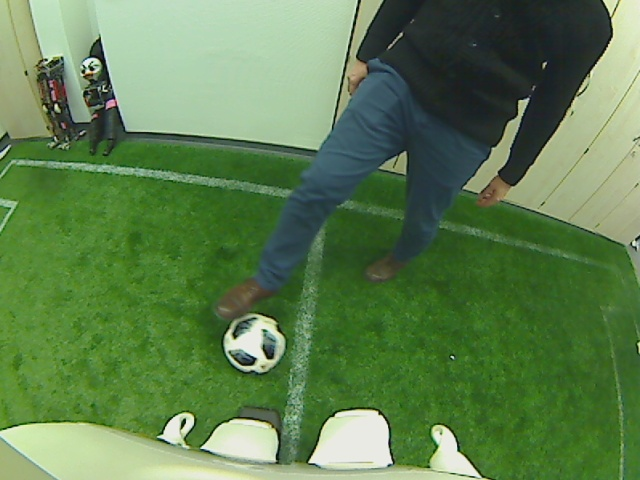ball: (221, 308, 286, 377)
